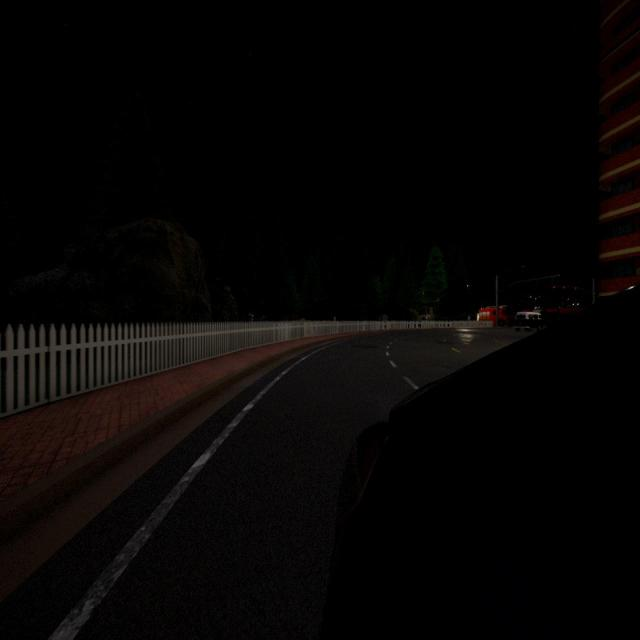Vehicle: (326, 283, 640, 640), (479, 305, 509, 328), (514, 312, 543, 332)
